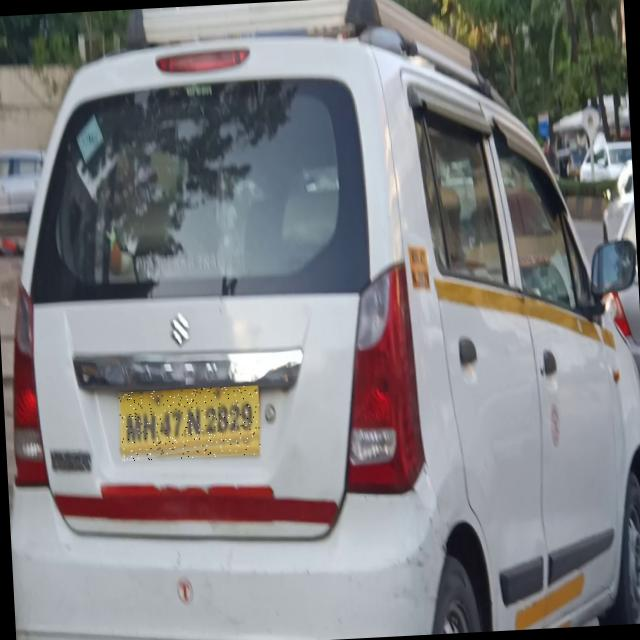Plate: (120, 387, 263, 463)
